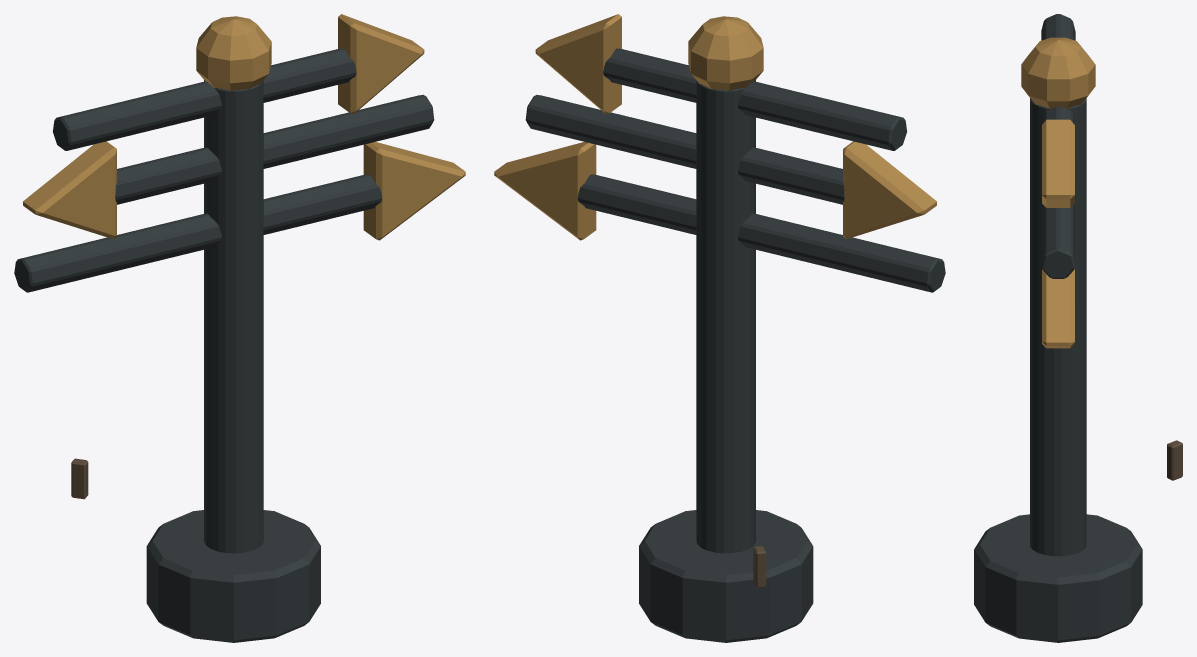
The model's file is runtime.glb.
3 views of the same model, side by side, from view 1: azimuth 30°, elevation 25°; view 2: azimuth 150°, elevation 25°; view 3: azimuth 270°, elevation 25° (orthographic). The views are drawn at different scales.
Visible parts, largest first — view 1: eiffel-historic-information-v07_nocol; view 2: eiffel-historic-information-v07_nocol; view 3: eiffel-historic-information-v07_nocol.
Boxes of the visible parts, x1,y1,x2,y2 form: eiffel-historic-information-v07_nocol: [14, 14, 465, 642]; eiffel-historic-information-v07_nocol: [494, 14, 945, 642]; eiffel-historic-information-v07_nocol: [974, 14, 1182, 642].
Bounding box in the file's own units: 1.62 × 2.09 × 0.6936.
